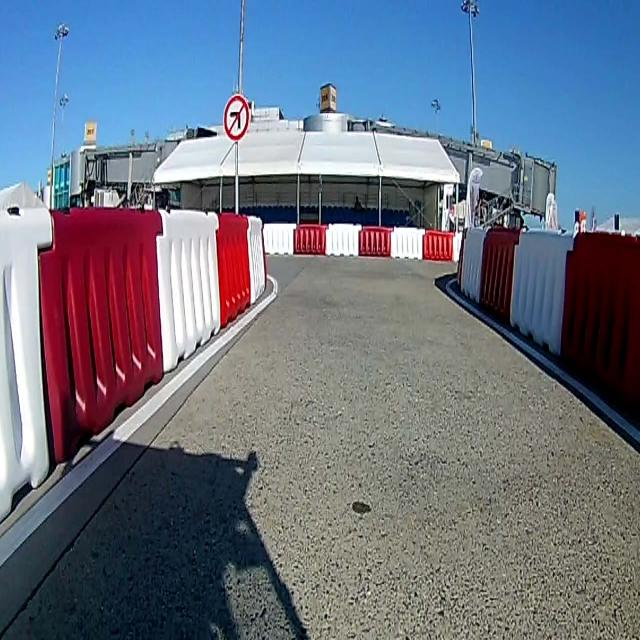soladonulmez: (222, 95, 250, 140)
